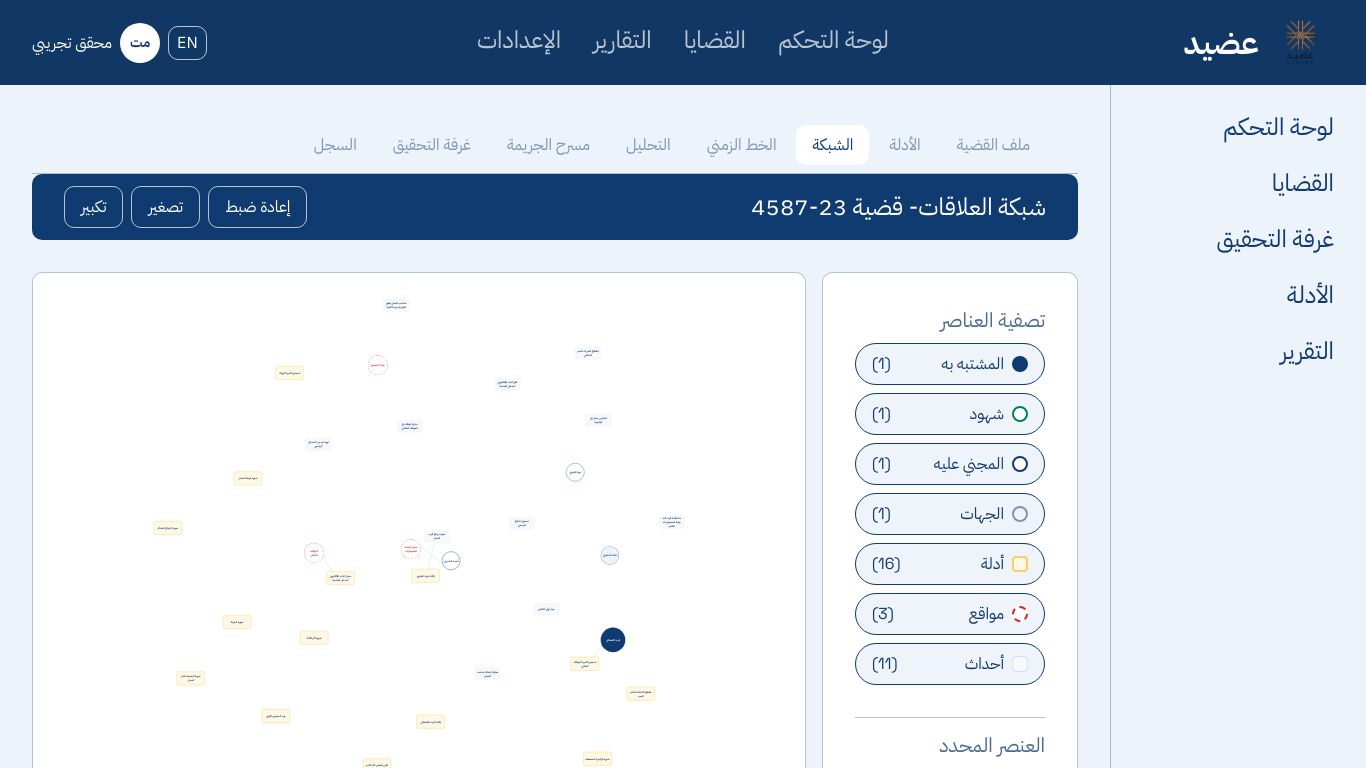
network screen › hides a type and its edges when the filter is toggled
Check: the button "فهد القحطاني" is shown, box top-left (601, 628), bottom-right (625, 652)
Click the button "أدلة (16)" at point(950, 564), box top-left (855, 543), bottom-right (1045, 585)
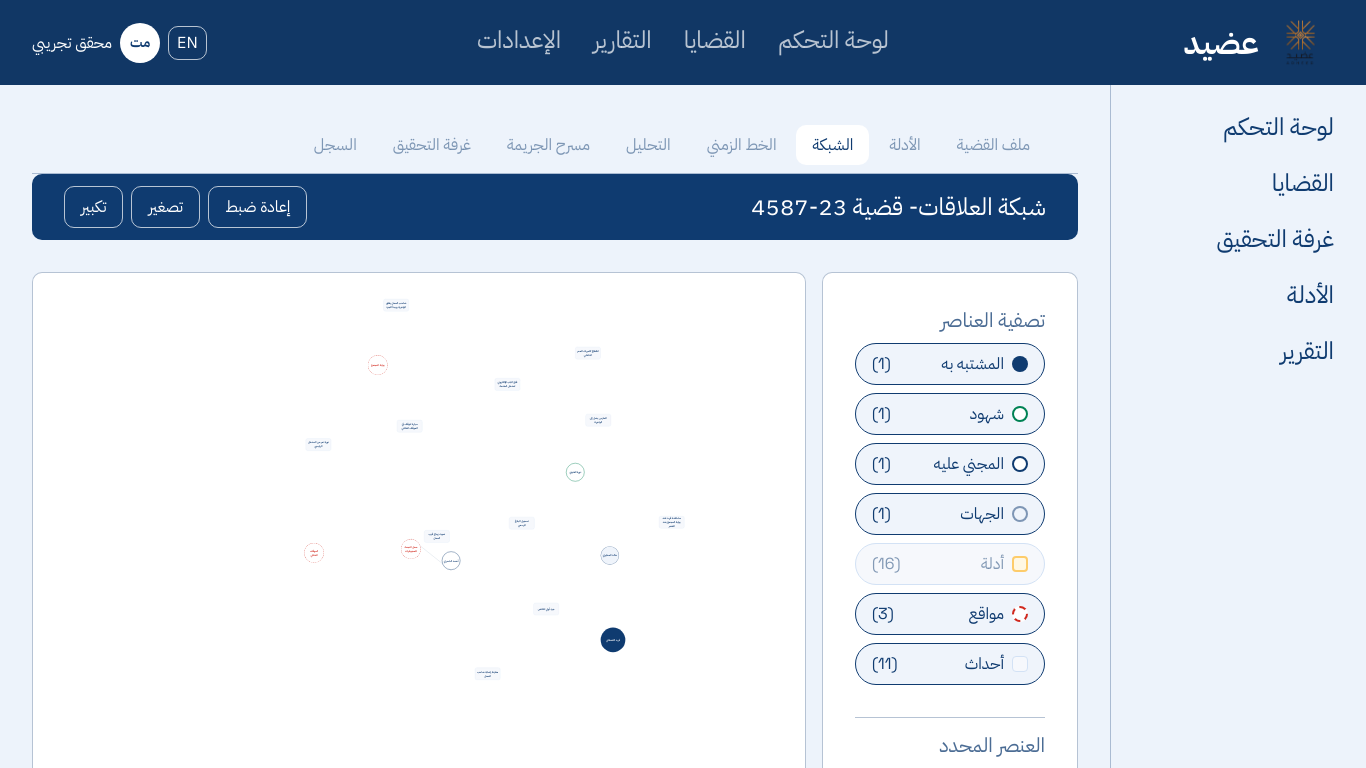
Check: the button "فهد القحطاني" is shown, box top-left (601, 628), bottom-right (625, 652)
Check: the button "تسجيل كاميرا الموقف الخلفي" is gone
